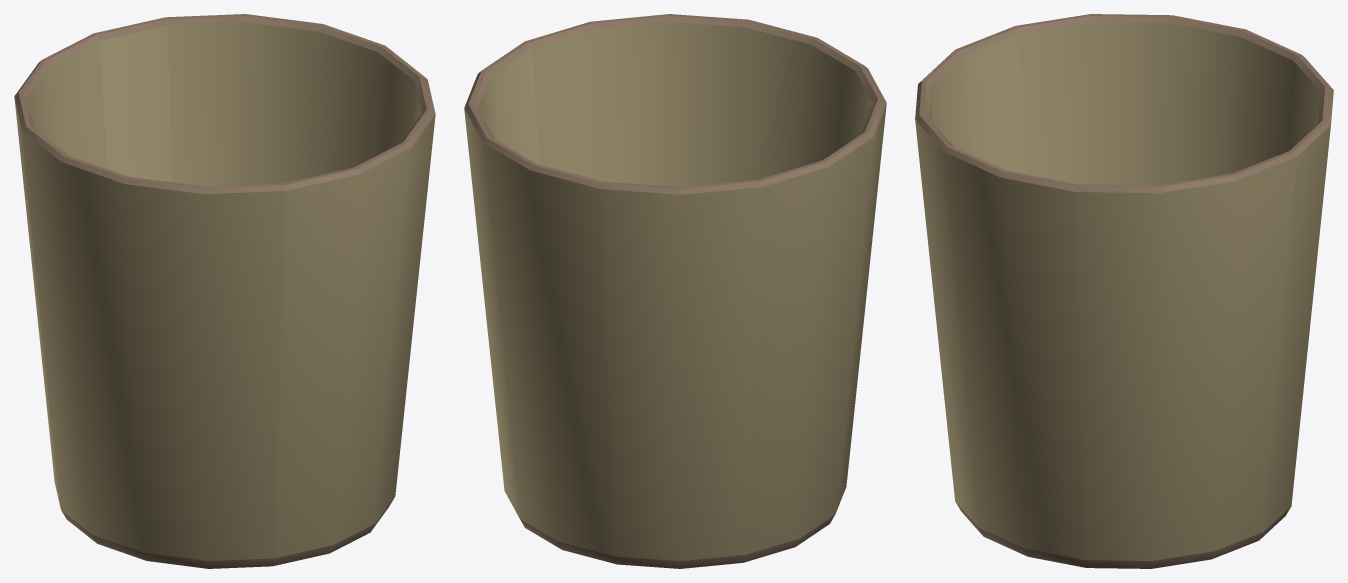
File: jp_basket.glb
3 renders of one model, left to right at view 1: azimuth 30°, elevation 25°; view 2: azimuth 150°, elevation 25°; view 3: azimuth 270°, elevation 25°, orthographic.
Visible parts, largest first — view 1: jp_basket; view 2: jp_basket; view 3: jp_basket.
Boxes of the visible parts, box(x1,y1,x2,y2) form: jp_basket: box(14, 14, 435, 568); jp_basket: box(464, 14, 886, 568); jp_basket: box(915, 14, 1333, 568).
Bounding box in the file's own units: 0.5644 × 0.6 × 0.5644.
